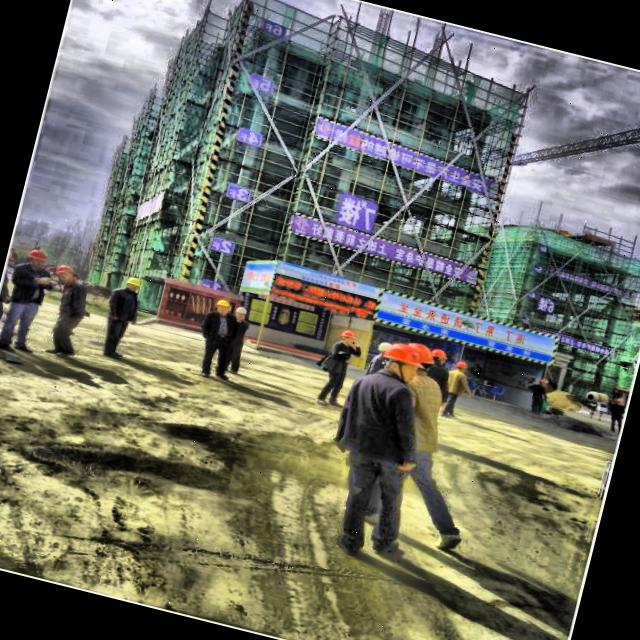helmet: (379, 339, 425, 384), (402, 341, 437, 378), (22, 243, 52, 271), (119, 271, 148, 296), (49, 260, 78, 284), (332, 325, 360, 349), (208, 297, 236, 318), (426, 346, 451, 369), (450, 356, 472, 377), (232, 304, 252, 323)
